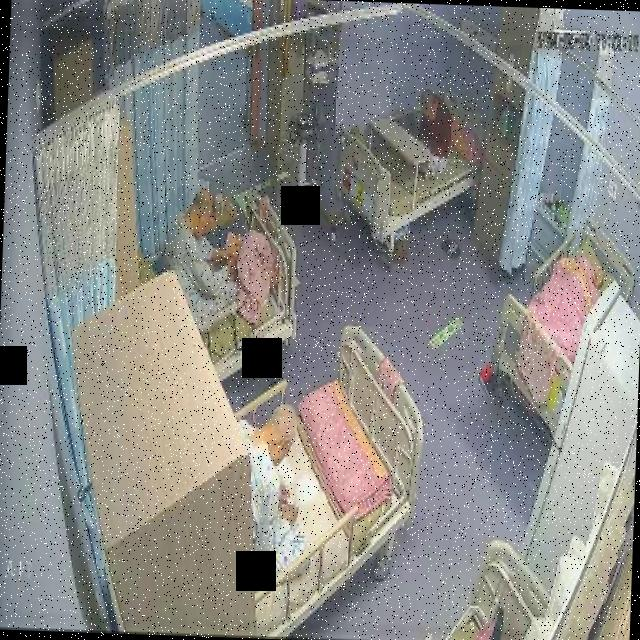bed: (221, 323, 427, 640), (490, 216, 636, 436), (160, 195, 298, 382), (338, 83, 486, 246)
patient: (236, 398, 312, 592), (161, 188, 240, 336), (409, 87, 452, 182)
sit: (160, 184, 286, 330), (235, 397, 312, 592), (410, 89, 452, 180)
